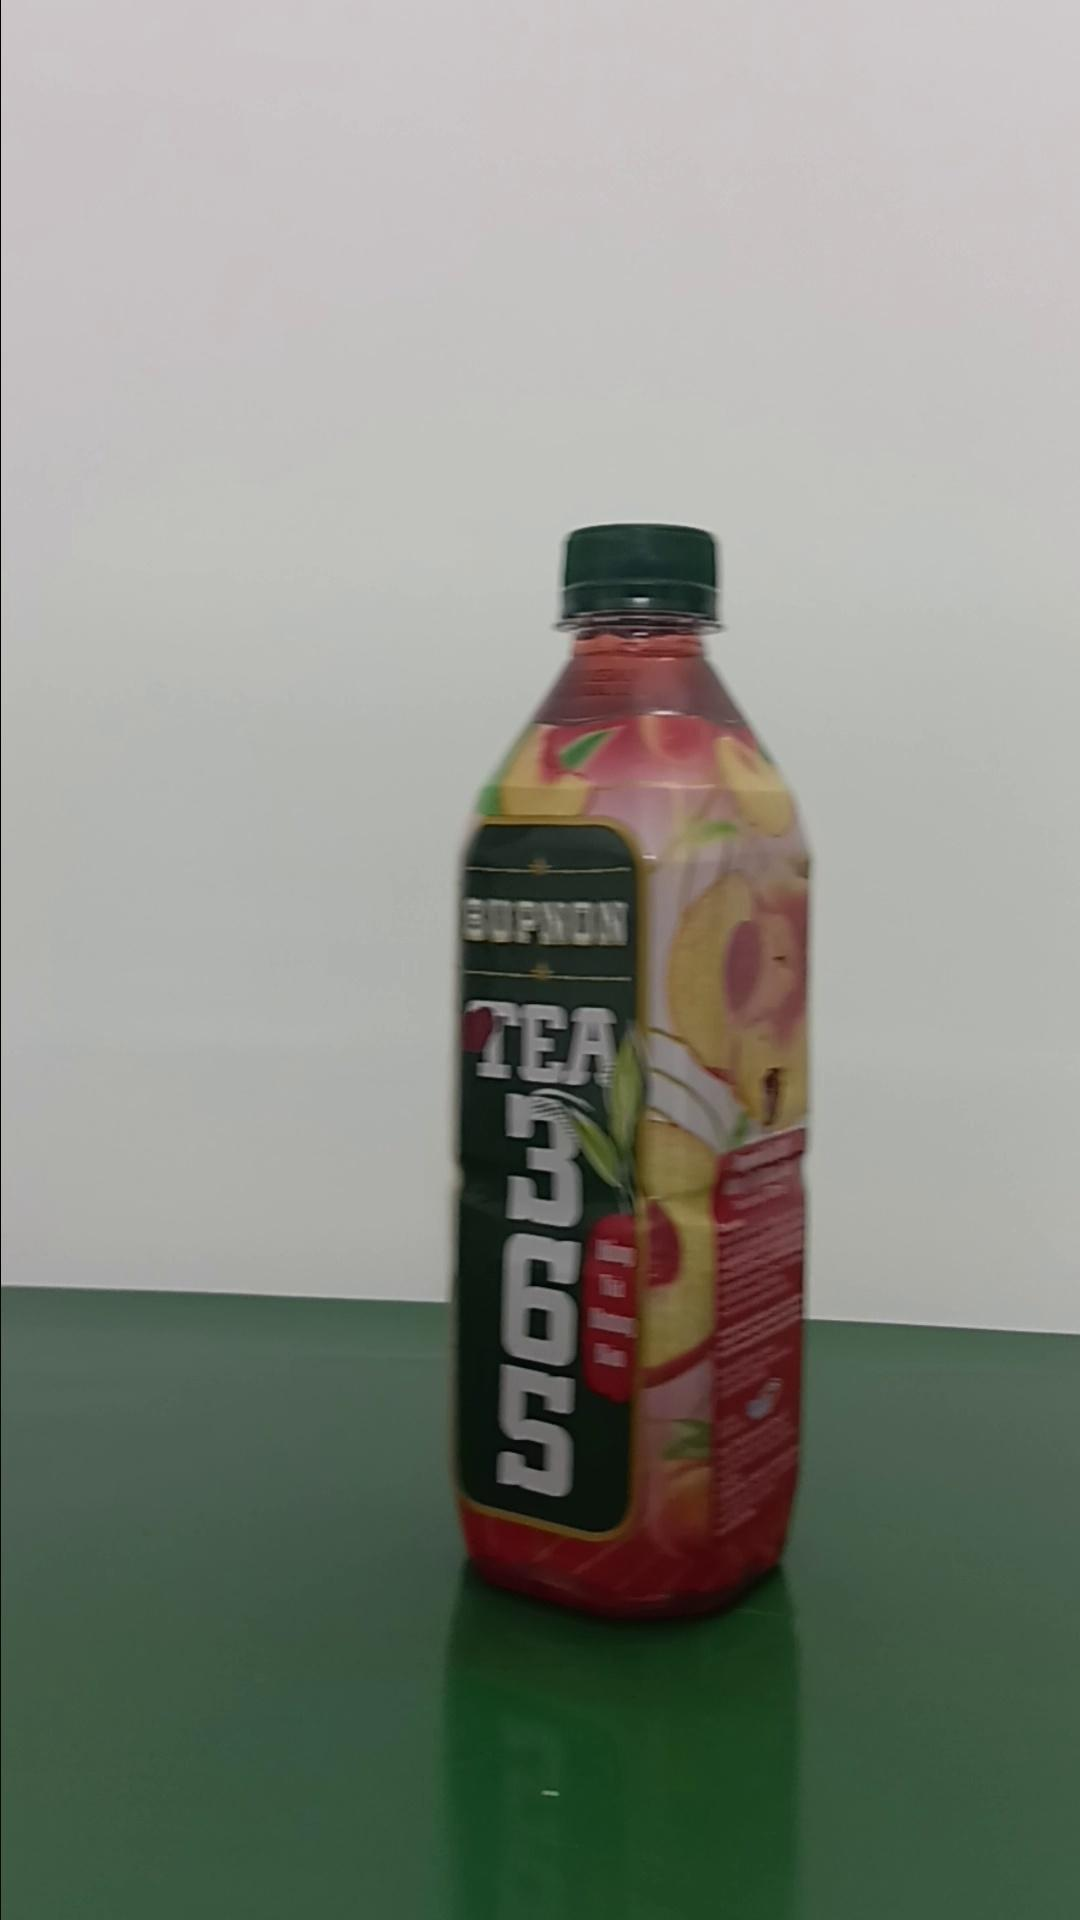loi rach va lap chai: (455, 512, 820, 1630)
